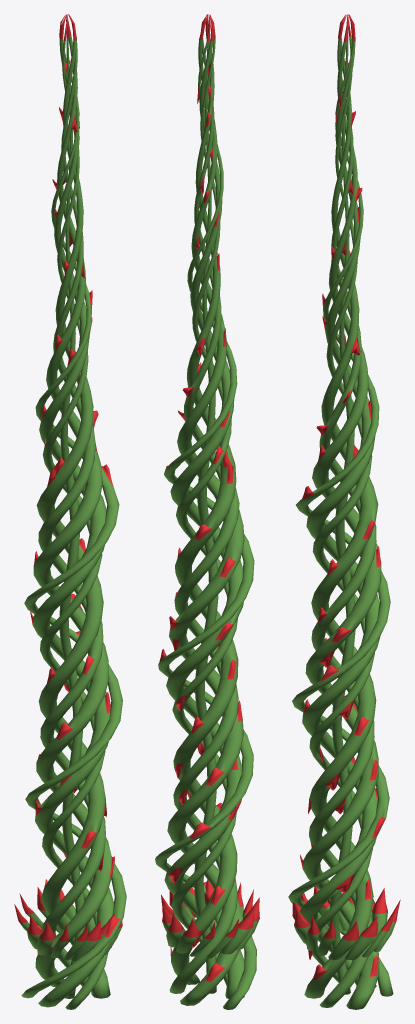
File: ENV_Vine-thorns.fbx
3 renders of one model, left to right at view 1: azimuth 90°, elevation 25°; view 2: azimuth 210°, elevation 25°; view 3: azimuth 270°, elevation 25°, orthographic.
Parts seen in each view (by area): view 1: Cylinder.016, Cylinder.031; view 2: Cylinder.016, Cylinder.031; view 3: Cylinder.016, Cylinder.031.
Boxes of the visible parts, bbox=[...] form: Cylinder.016: bbox=[21, 14, 126, 1009]; Cylinder.031: bbox=[14, 887, 122, 961]; Cylinder.016: bbox=[155, 14, 256, 1009]; Cylinder.031: bbox=[161, 879, 259, 958]; Cylinder.016: bbox=[288, 14, 393, 1009]; Cylinder.031: bbox=[292, 886, 400, 960].
Bounding box in the file's own units: 102 × 112 × 1077.
